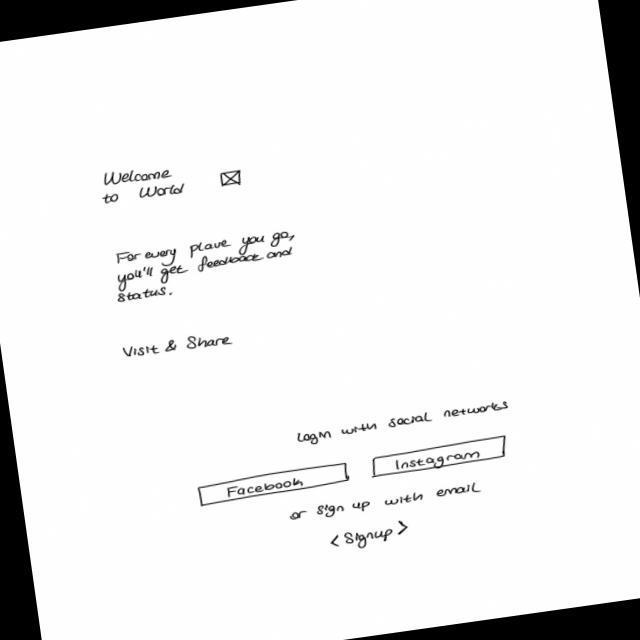button: (198, 462, 353, 508), (369, 434, 513, 481)
image: (219, 170, 245, 190)
label: (110, 228, 303, 307), (296, 400, 513, 449), (289, 481, 485, 524), (99, 161, 188, 207), (121, 330, 239, 364)
link: (328, 519, 413, 555)
